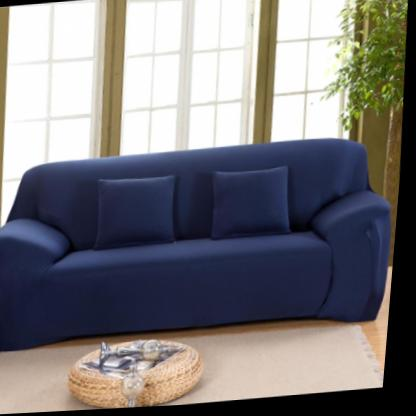Sofa: (0, 136, 404, 355)
